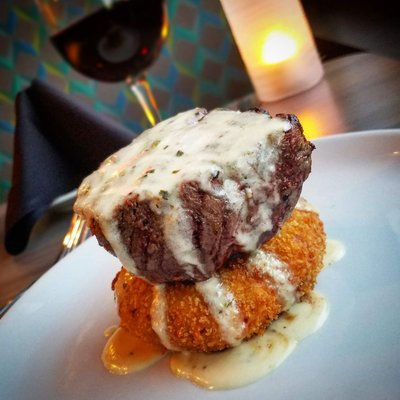pizza: (219, 0, 325, 104)
soup: (71, 102, 330, 377)
